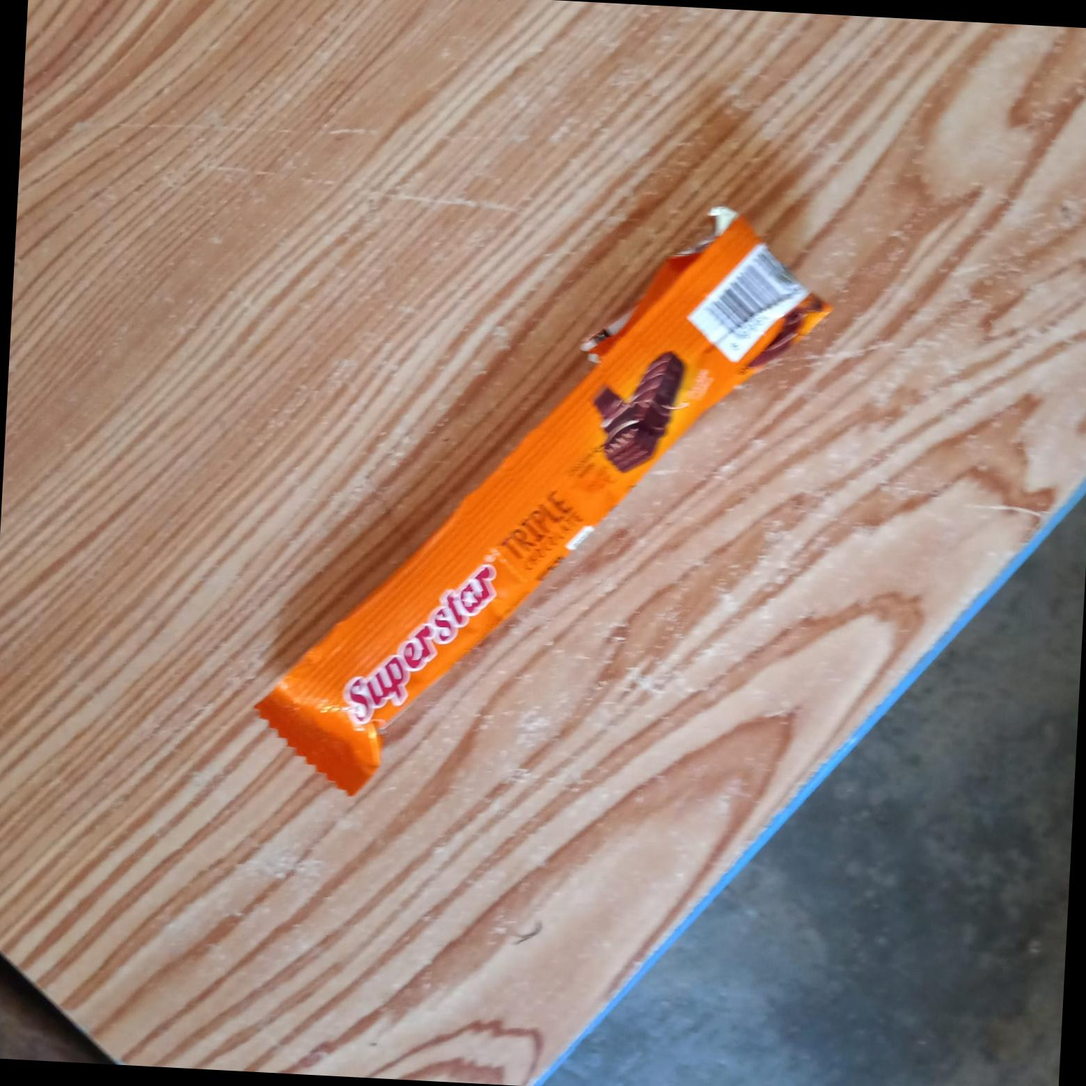Plastik: (244, 181, 835, 816)
